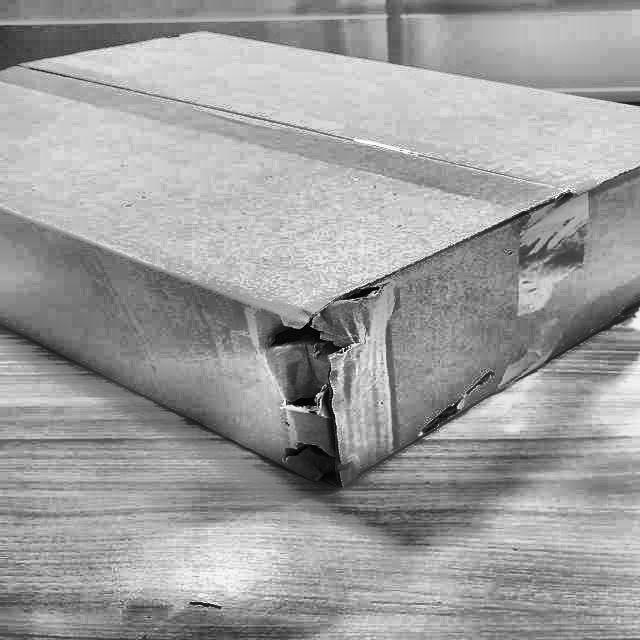box: (1, 22, 639, 505)
hole: (420, 372, 502, 430), (263, 310, 353, 356), (269, 382, 354, 424), (274, 436, 353, 470)
